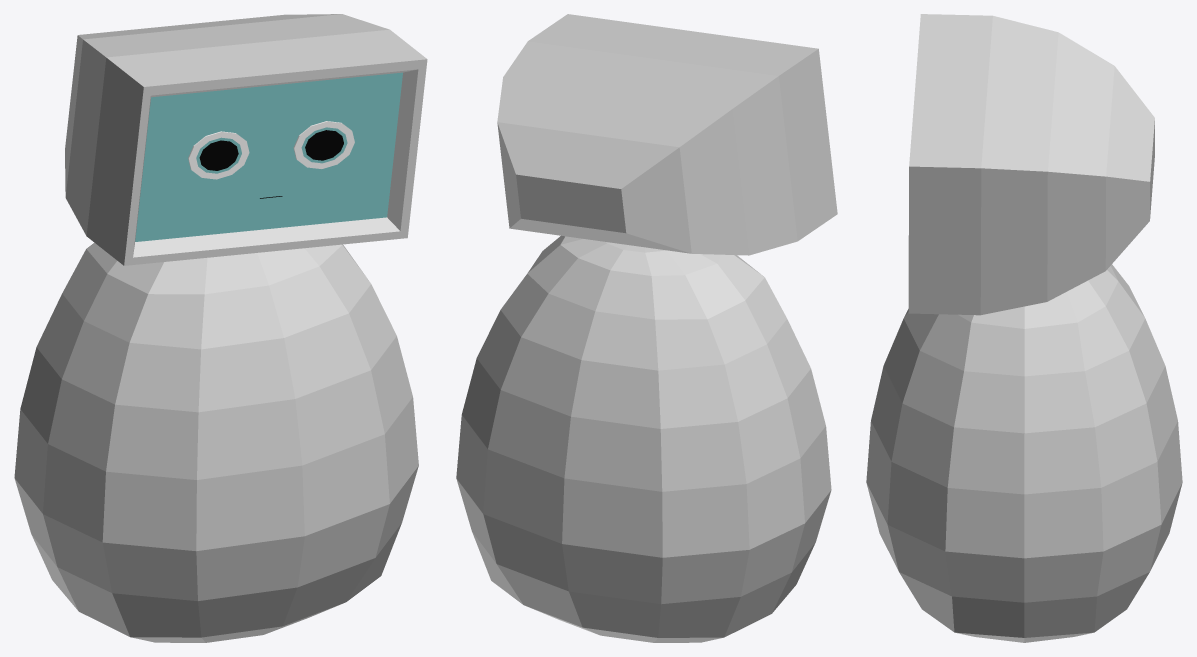
Rendered from emarV-X1_Animation_4_1.fbx.
3 renders of one model, left to right at view 1: azimuth 30°, elevation 25°; view 2: azimuth 150°, elevation 25°; view 3: azimuth 270°, elevation 25°, orthographic. The views are drawn at different scales.
Visible parts, largest first — view 1: Body, Head, Right Eye, Left Eye; view 2: Body, Head; view 3: Body, Head.
Boxes of the visible parts, x1,y1,x2,y2 form: Body: [14, 243, 418, 642]; Head: [65, 14, 427, 265]; Right Eye: [188, 131, 249, 179]; Left Eye: [293, 121, 354, 168]; Body: [456, 235, 831, 642]; Head: [497, 14, 837, 255]; Body: [866, 264, 1182, 642]; Head: [908, 14, 1154, 315].
Bounding box in the file's own units: 52.24 × 85.92 × 45.95.
